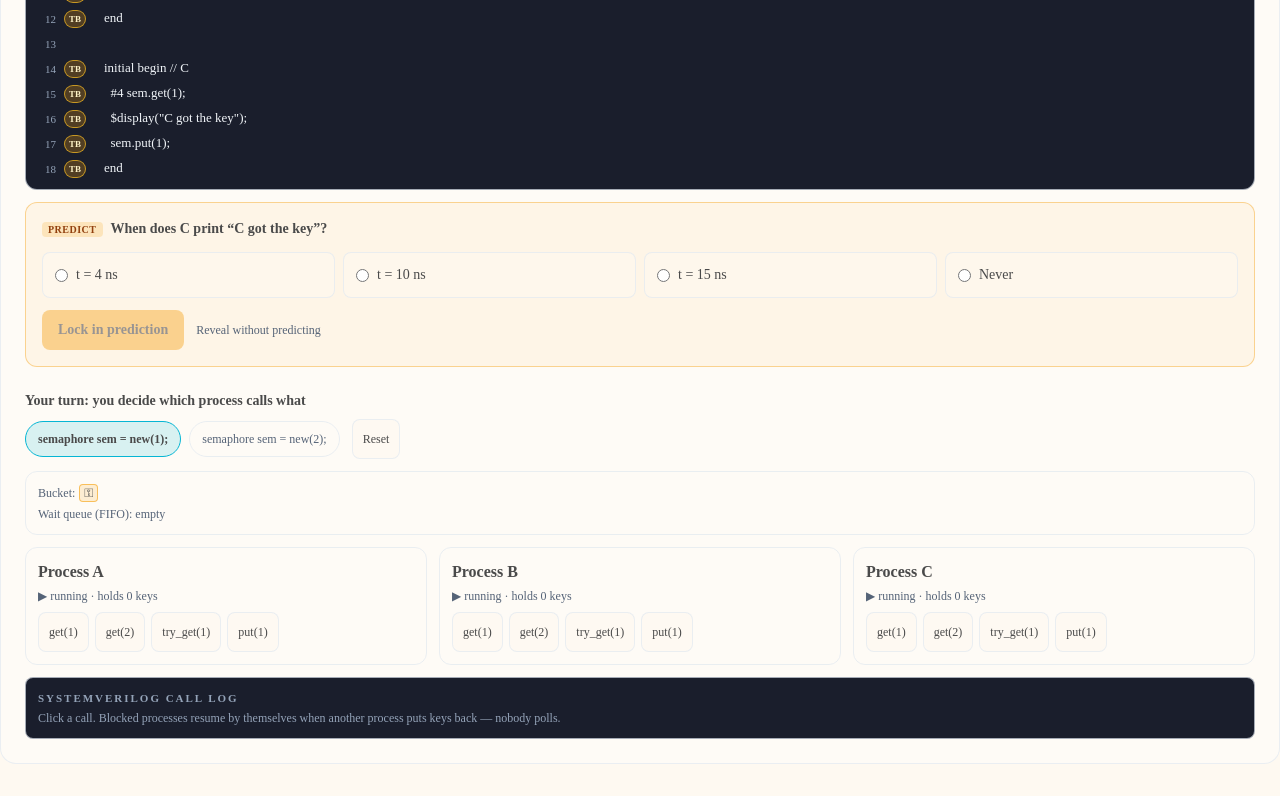
Test: MailboxSemaphoreGame › try_get returns 0 without blocking, and put can exceed the initial key count
(page scrolled)
Click the button with aria-label "A: sem.get(1)": (63, 632) [38,612,89,652]
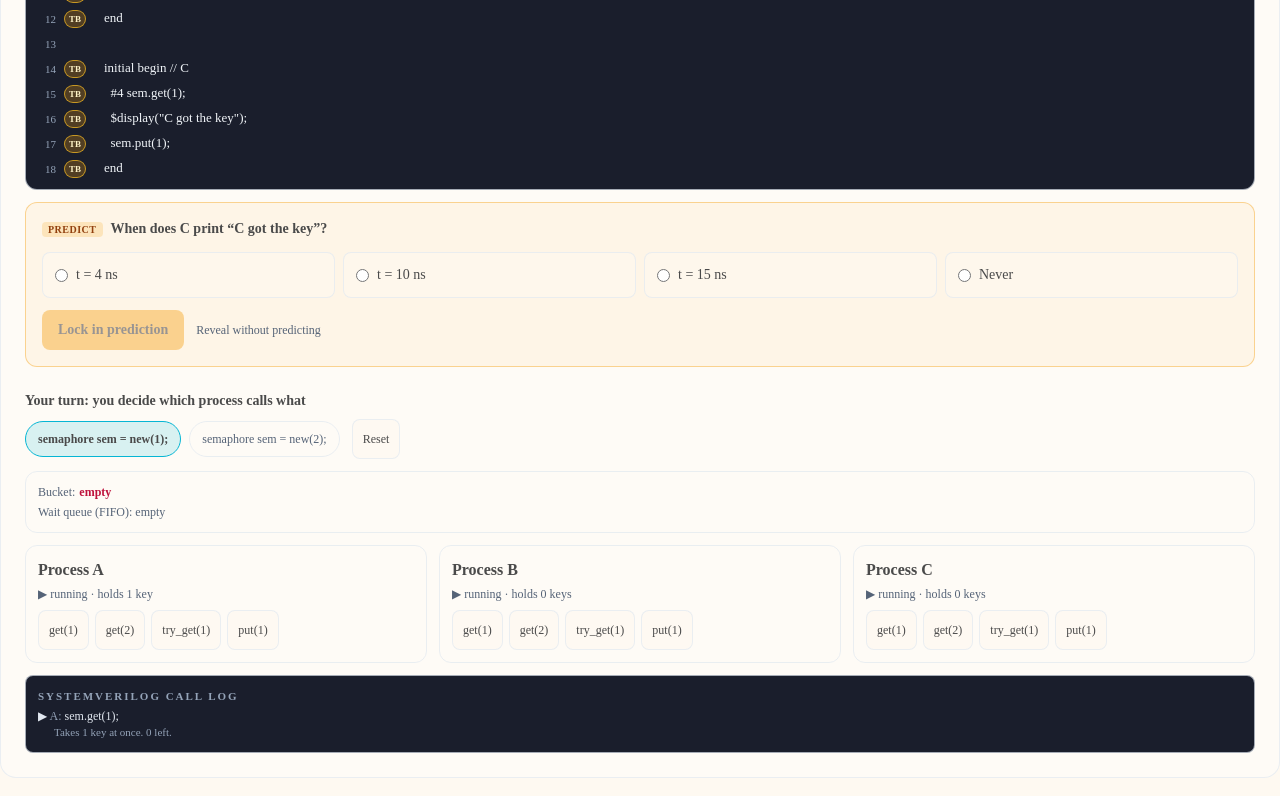
Click the button with aria-label "B: sem.try_get(1)": (600, 630) [565,610,635,650]
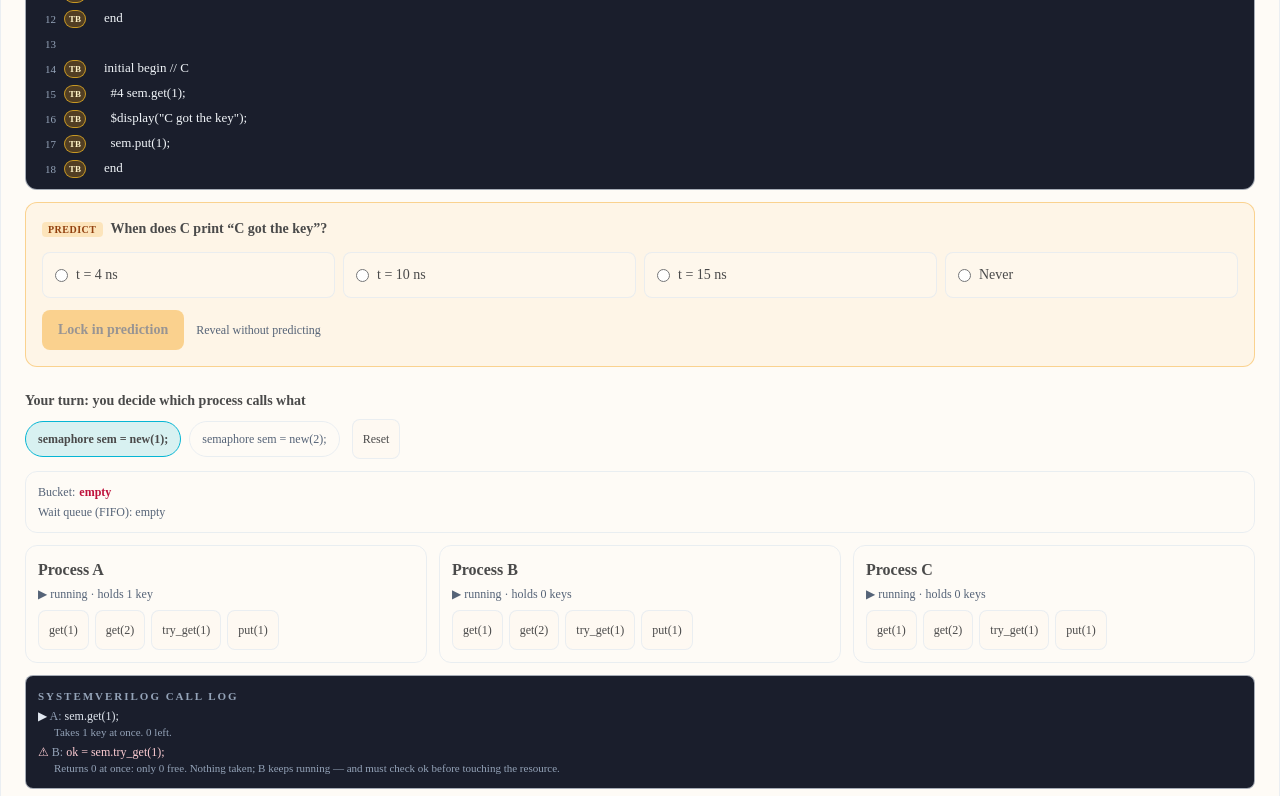
Expected: the element with id "sem-status-B" shows "running", [464,587,572,601]
Expected: the text "Returns 0 at once" is shown, [54,762,560,774]
Click the button with aria-label "C: sem.put(1)": (1081, 630) [1055,610,1107,650]
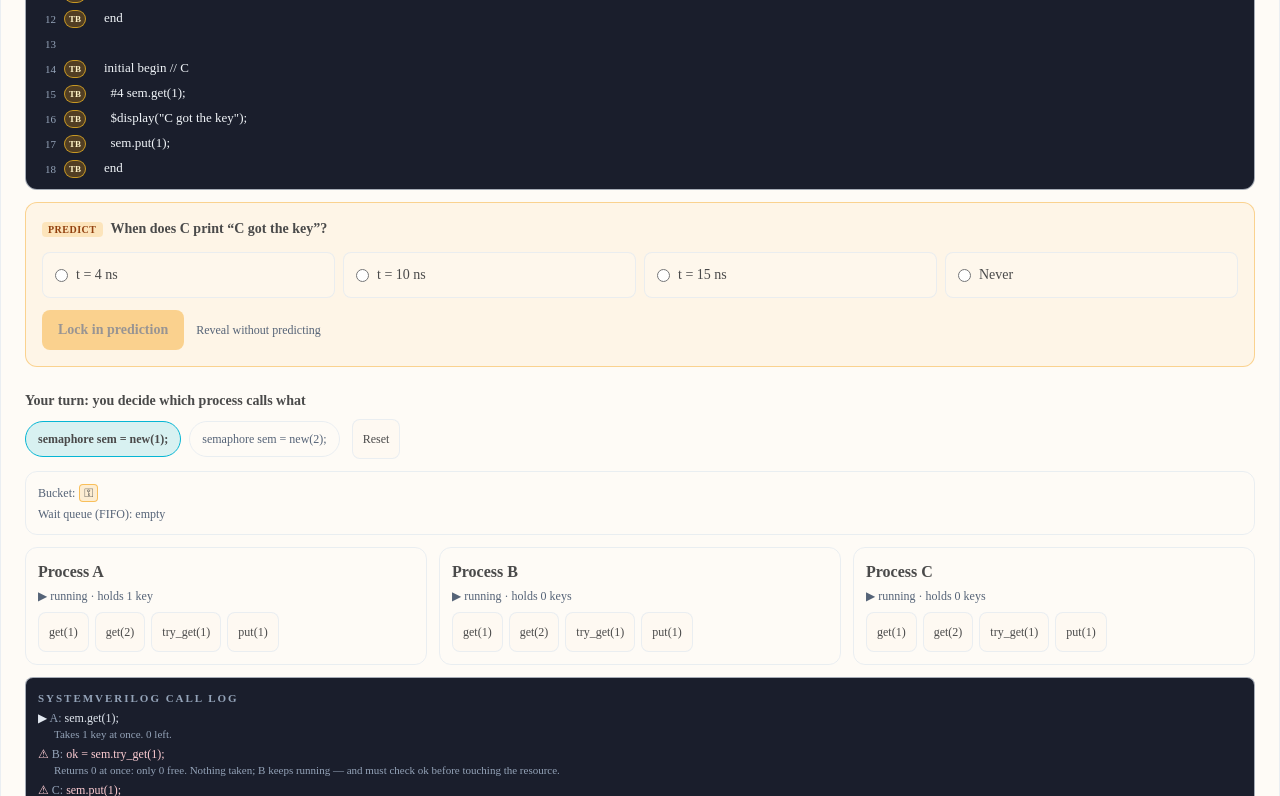
Click the button with aria-label "C: sem.put(1)": (1081, 632) [1055,612,1107,652]
(page scrolled)
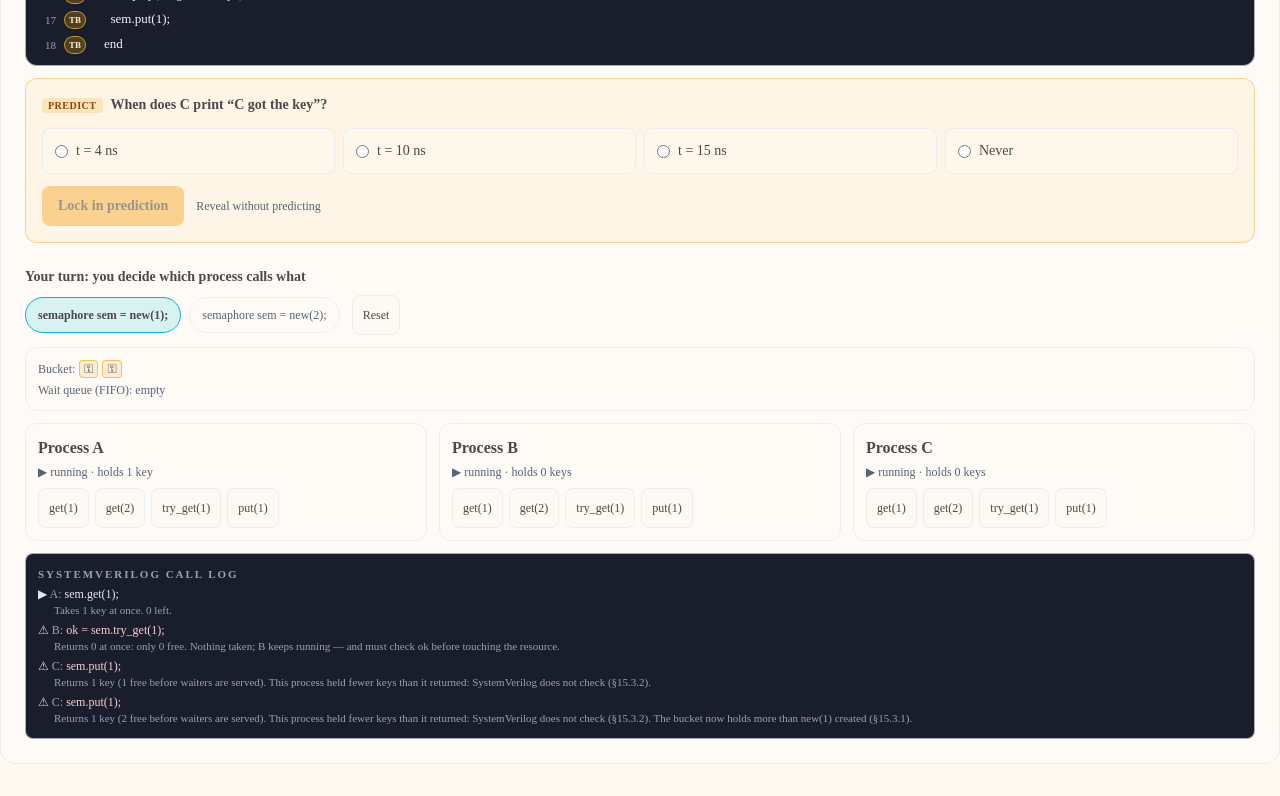
Expected: the text "more than new(1) created" is shown, [54,712,912,724]
